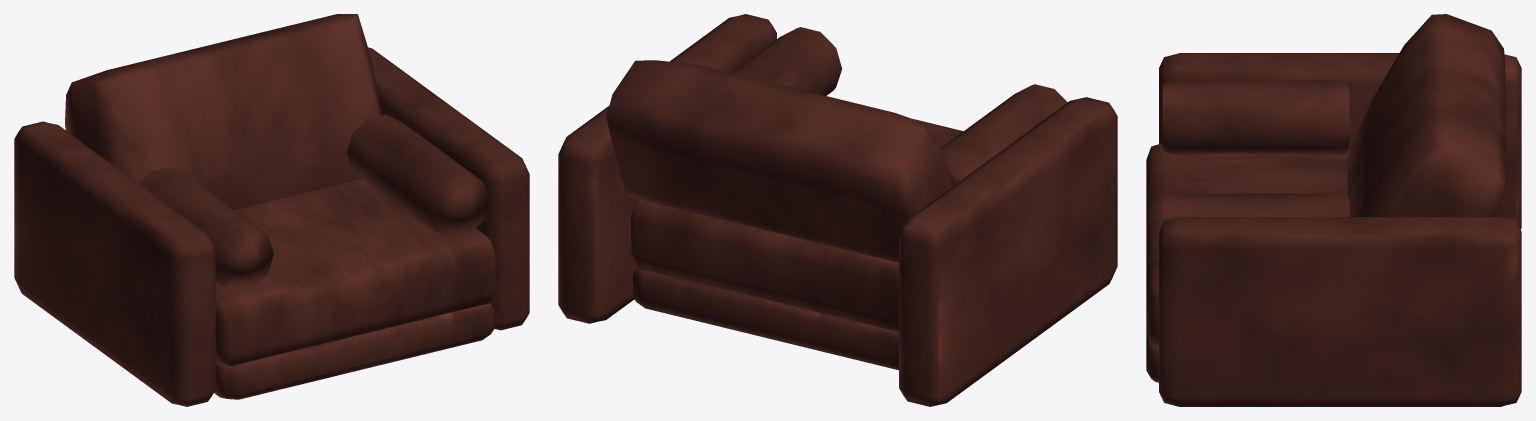
File: CouchLowSingle.fbx
3 renders of one model, left to right at view 1: azimuth 30°, elevation 25°; view 2: azimuth 150°, elevation 25°; view 3: azimuth 270°, elevation 25°, orthographic. The views are drawn at different scales.
Parts seen in each view (by area): view 1: pCylinder4; view 2: pCylinder4; view 3: pCylinder4.
Part boxes in pixels (<box>): pCylinder4: <box>14,14,529,406</box>; pCylinder4: <box>558,14,1117,406</box>; pCylinder4: <box>1146,14,1521,406</box>.
Size of the model in its own units: 1197 by 728 by 1024.
